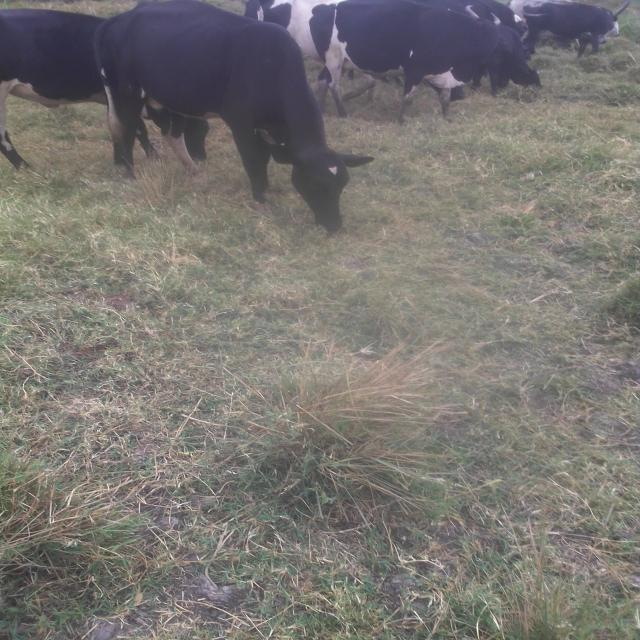Right: (95, 0, 372, 231)
